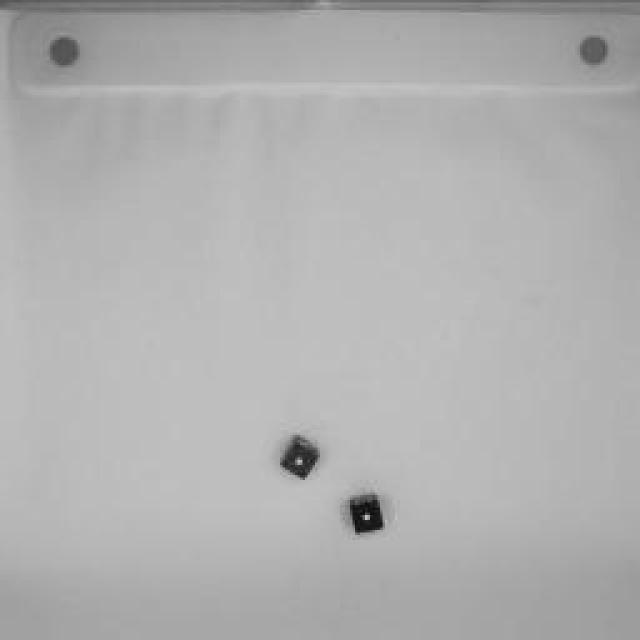dice_1: (275, 430, 325, 485), (344, 490, 391, 540)
